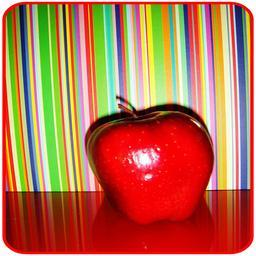apple: (85, 108, 214, 225)
